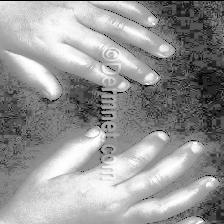Unclassified: (176, 139, 202, 164), (76, 59, 98, 75)
